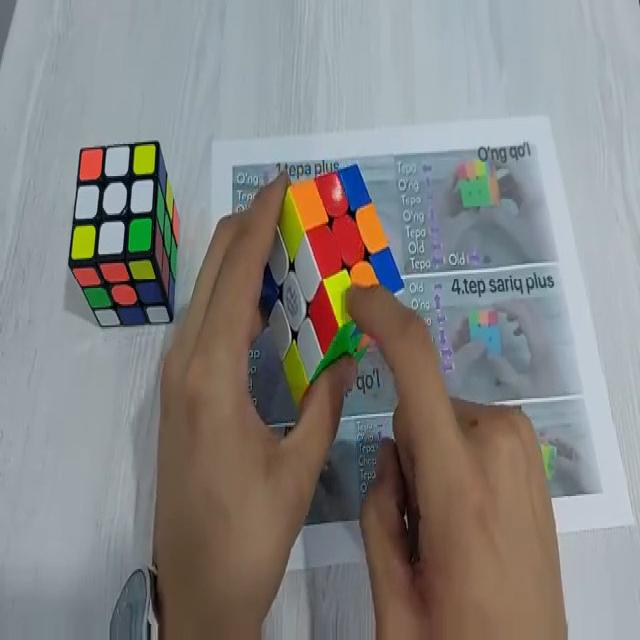Rub: (253, 161, 404, 409), (70, 142, 180, 325)
